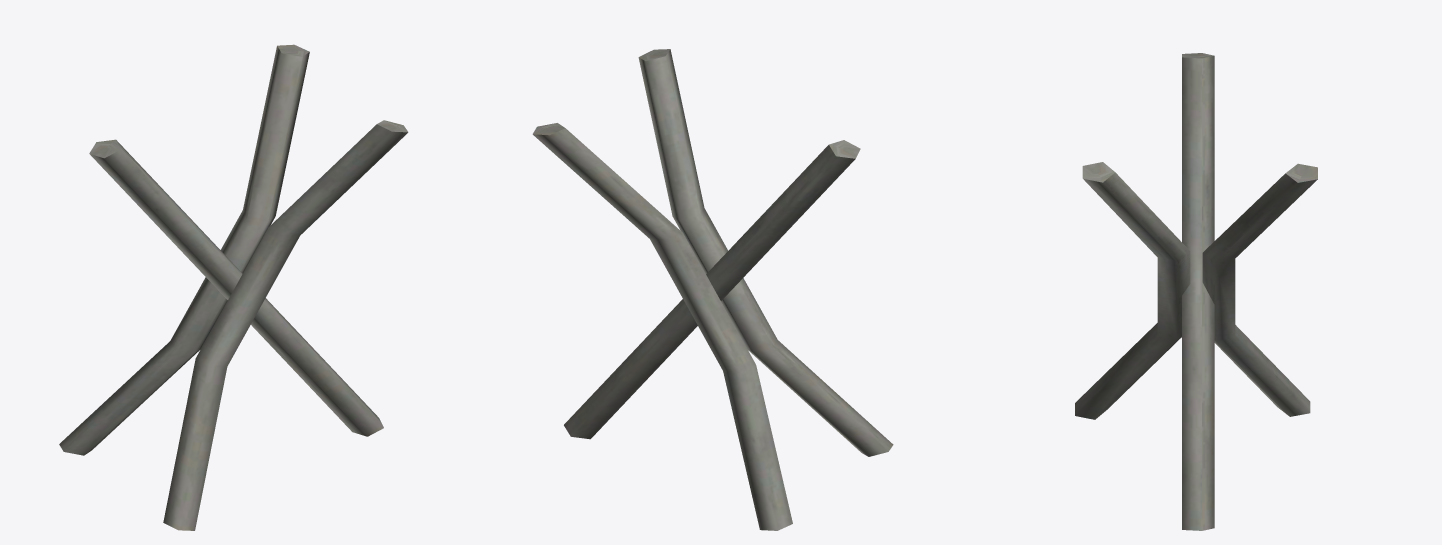
Rendered from eqp_camping_stool_tall_l0.fbx.
The picture shows the model from 3 angles, left to right: view 1: azimuth 30°, elevation 25°; view 2: azimuth 150°, elevation 25°; view 3: azimuth 270°, elevation 25°; orthographic projection.
Parts seen in each view (by area): view 1: mesh_node; view 2: mesh_node; view 3: mesh_node.
Part boxes in pixels (x1,y1,x2,y2): mesh_node: (59,44,408,530); mesh_node: (532,49,893,530); mesh_node: (1075,53,1317,530).
Size of the model in its own units: 0.4856 by 0.4265 by 0.4856.
Materials: 1 (1 with a texture image).
